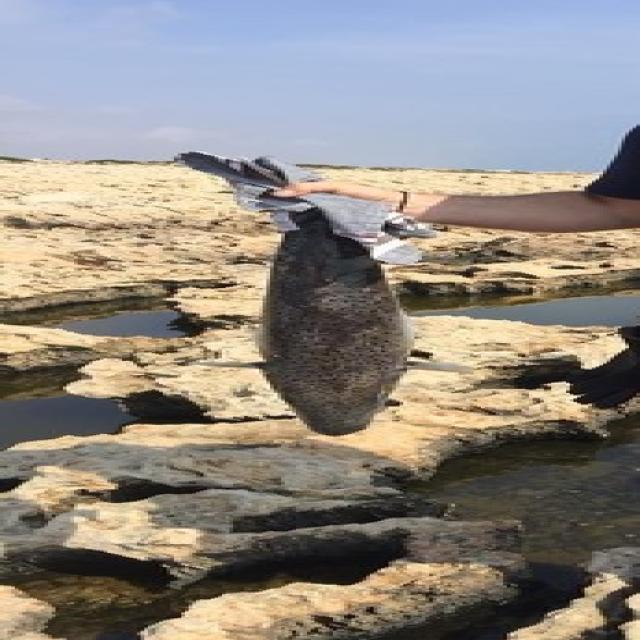Balik: (259, 212, 410, 435)
